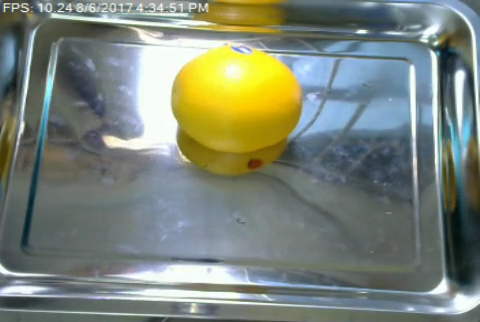Orange: (172, 43, 301, 153)
